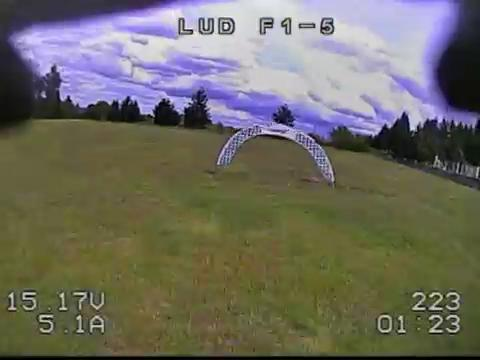gate: (218, 122, 333, 186)
